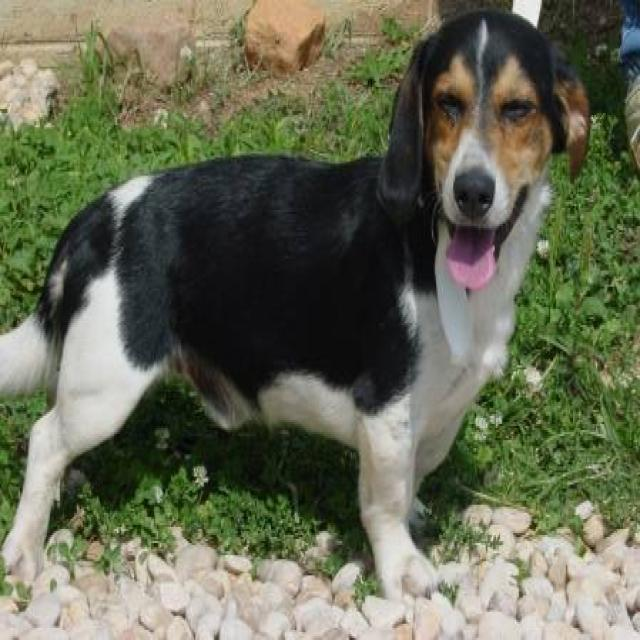dog: (0, 6, 590, 602)
